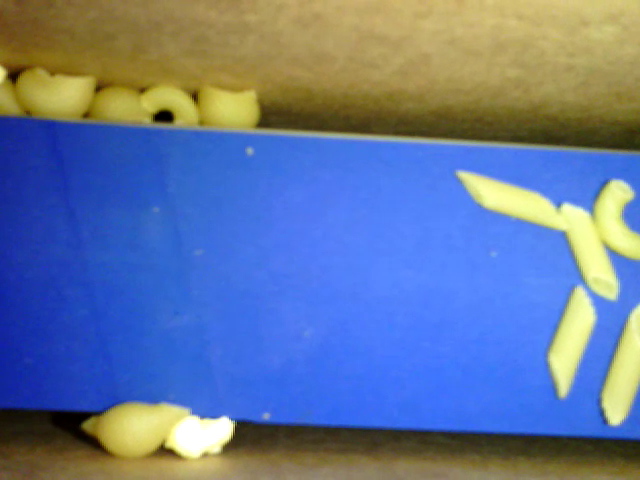elbow: (593, 179, 639, 263), (142, 85, 199, 125)
penne: (597, 300, 639, 426)
shell: (455, 167, 566, 231), (544, 284, 599, 400), (82, 401, 194, 457), (560, 200, 618, 299), (14, 66, 98, 118), (196, 82, 262, 128), (89, 87, 158, 125)
